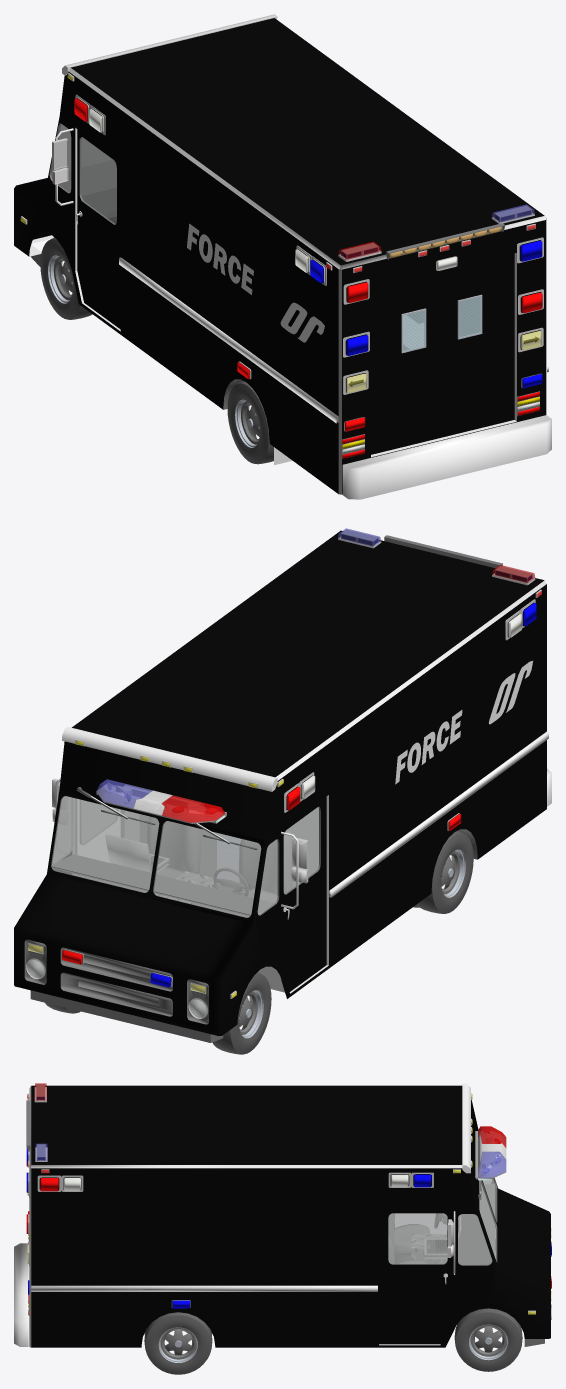
3 views of the same model, one above another, from view 1: azimuth 30°, elevation 25°; view 2: azimuth 150°, elevation 25°; view 3: azimuth 270°, elevation 25° (orthographic). The views are drawn at different scales.
Visible parts, largest first — view 1: mesh151_mesh151-geometry_3, mesh151_mesh151-geometry_9, mesh77_mesh77-geometry, mesh1_mesh1-geometry, mesh32_mesh32-geometry, mesh151_mesh151-geometry_6, mesh151_mesh151-geometry_5, mesh32_mesh32-geometry_3, mesh151_mesh151-geometry_14, mesh77_mesh77-geometry_3, mesh41_mesh41-geometry_6, mesh151_mesh151-geometry_10 (+7 smaller); view 2: mesh151_mesh151-geometry_3, mesh151_mesh151-geometry_9, mesh151_mesh151-geometry_17, mesh151_mesh151-geometry_14, mesh32_mesh32-geometry, mesh151_mesh151-geometry_6, mesh151_mesh151-geometry_2, mesh151_mesh151-geometry_4, mesh151_mesh151-geometry_5, mesh40_mesh40-geometry_1, mesh40_mesh40-geometry, mesh151_mesh151-geometry_1 (+11 smaller); view 3: mesh151_mesh151-geometry_3, mesh151_mesh151-geometry_9, mesh52_mesh52-geometry, mesh151_mesh151-geometry_6, mesh151_mesh151-geometry_8, mesh52_mesh52-geometry_3, mesh151_mesh151-geometry_14, mesh151_mesh151-geometry_17, mesh33_mesh33-geometry_1, mesh33_mesh33-geometry_6, mesh1_mesh1-geometry, mesh40_mesh40-geometry (+9 smaller).
Part boxes in pixels (box(x1,y1,x2,y2)): mesh151_mesh151-geometry_3: box(14, 71, 545, 494); mesh151_mesh151-geometry_9: box(71, 18, 544, 291); mesh77_mesh77-geometry: box(371, 253, 514, 454); mesh1_mesh1-geometry: box(342, 415, 551, 499); mesh32_mesh32-geometry: box(77, 129, 120, 329); mesh151_mesh151-geometry_6: box(65, 14, 548, 457); mesh151_mesh151-geometry_5: box(62, 66, 338, 423); mesh32_mesh32-geometry_3: box(81, 137, 116, 223); mesh151_mesh151-geometry_14: box(52, 160, 116, 217); mesh77_mesh77-geometry_3: box(403, 296, 481, 351); mesh41_mesh41-geometry_6: box(227, 383, 268, 463); mesh151_mesh151-geometry_10: box(403, 297, 479, 350); mesh151_mesh151-geometry_3: box(14, 584, 546, 1035); mesh151_mesh151-geometry_9: box(72, 530, 544, 777); mesh151_mesh151-geometry_17: box(26, 796, 277, 1018); mesh151_mesh151-geometry_14: box(24, 796, 273, 1024); mesh32_mesh32-geometry: box(283, 796, 326, 991); mesh151_mesh151-geometry_6: box(62, 580, 546, 837); mesh151_mesh151-geometry_2: box(26, 661, 532, 1018); mesh151_mesh151-geometry_4: box(60, 947, 172, 1016); mesh151_mesh151-geometry_5: box(272, 731, 548, 993); mesh40_mesh40-geometry_1: box(147, 817, 201, 878); mesh40_mesh40-geometry: box(239, 831, 292, 902); mesh151_mesh151-geometry_1: box(30, 829, 477, 1042); mesh151_mesh151-geometry_3: box(31, 1100, 550, 1347); mesh151_mesh151-geometry_9: box(31, 1085, 462, 1164); mesh52_mesh52-geometry: box(379, 1209, 451, 1344); mesh151_mesh151-geometry_6: box(29, 1083, 470, 1347); mesh151_mesh151-geometry_8: box(107, 1208, 318, 1247); mesh52_mesh52-geometry_3: box(388, 1213, 447, 1263); mesh151_mesh151-geometry_14: box(458, 1178, 544, 1346); mesh151_mesh151-geometry_17: box(458, 1179, 551, 1319); mesh33_mesh33-geometry_1: box(145, 1315, 211, 1374); mesh33_mesh33-geometry_6: box(455, 1312, 521, 1371); mesh1_mesh1-geometry: box(14, 1243, 28, 1346); mesh40_mesh40-geometry: box(388, 1213, 429, 1262).
Bounding box in the file's own units: 0.368 × 0.3749 × 0.8447.
Materials: 124 (29 with a texture image).
